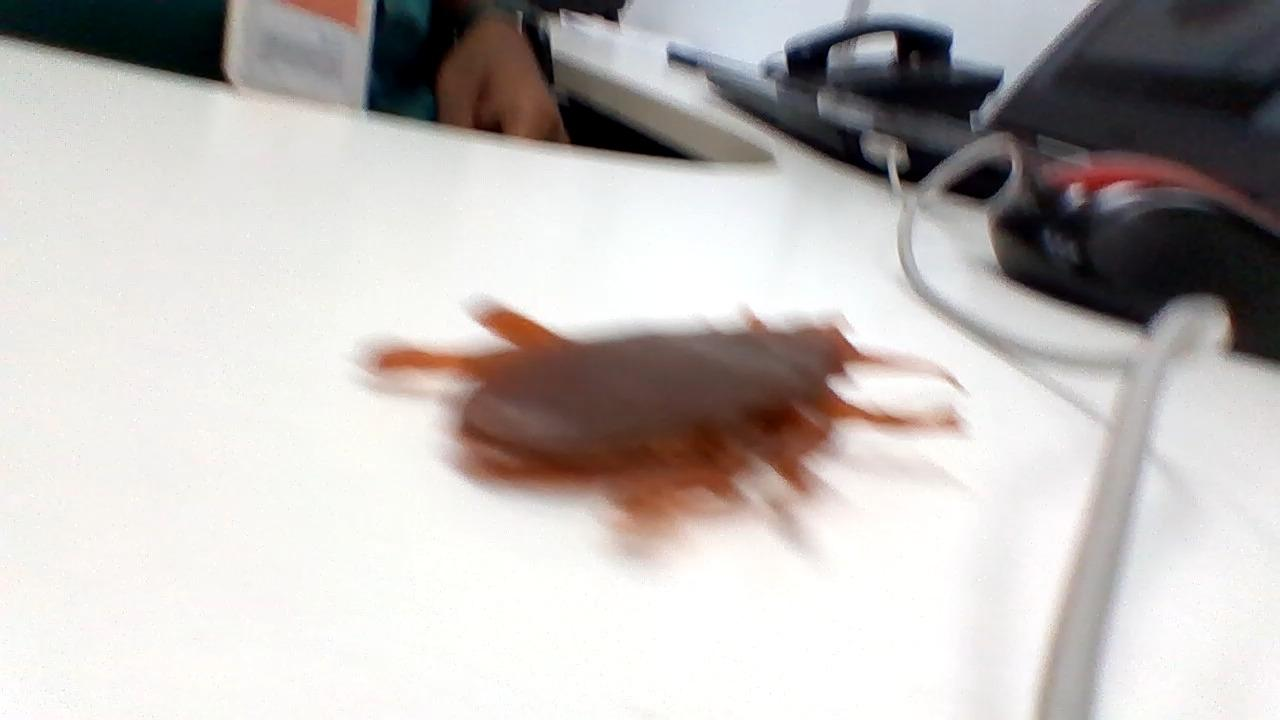cockroach: (367, 255, 961, 532)
